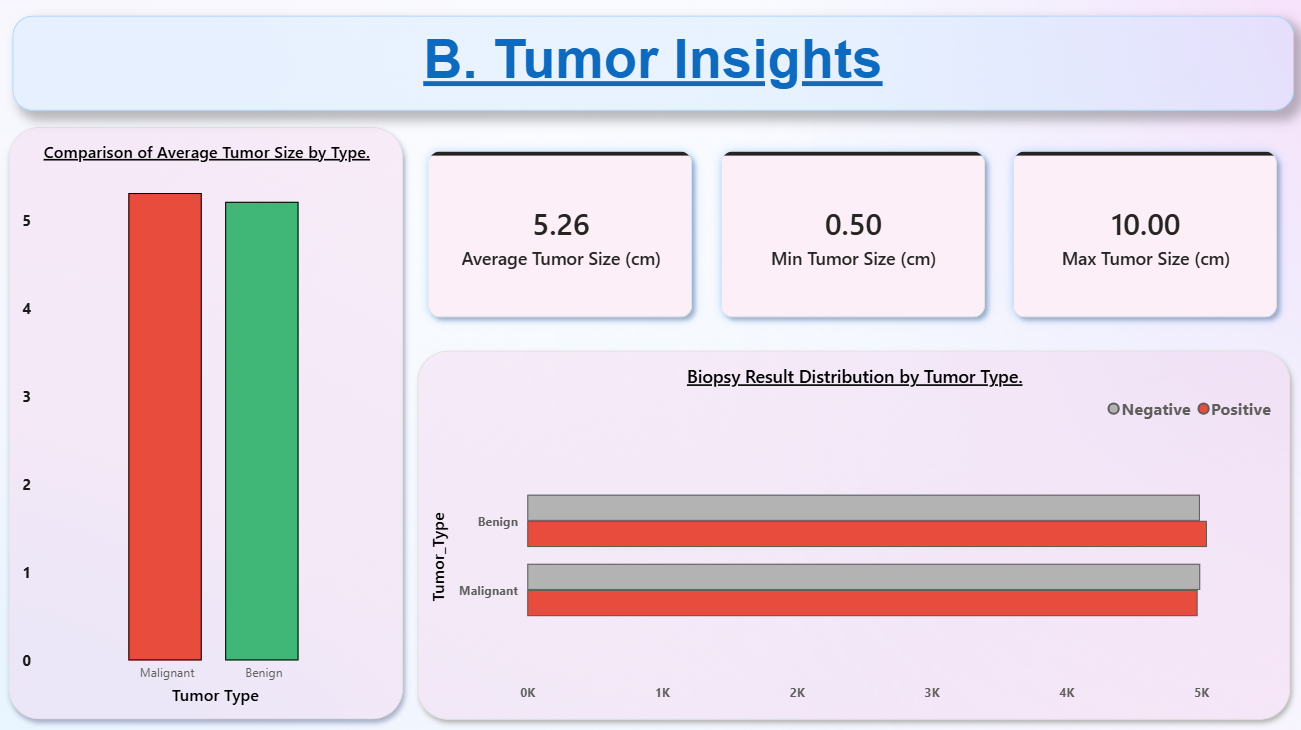

The page's visual inventory and layout, read from the dashboard file:
{"tool":"powerbi","page":{"name":"Tumor Insights","canvas":[1280,720],"ordinal":1},"visuals":[{"type":"cardVisual","fields":{"Data":["Median(cancer_diagnosis_data.Tumor_Size_cm)","Min(cancer_diagnosis_data.Tumor_Size_cm)","Max(cancer_diagnosis_data.Tumor_Size_cm)1"]},"box":[399.8,127.4,880.2,210.6],"z":0},{"type":"columnChart","title":"Comparison of Average Tumor Size by Type.","fields":{"Category":["cancer_diagnosis_data.Tumor_Type"],"Y":["Median(cancer_diagnosis_data.Tumor_Size_cm)"]},"box":[13.9,127.4,385.9,578.8],"z":1000},{"type":"clusteredBarChart","title":"Biopsy Result Distribution by Tumor Type.","fields":{"Category":["cancer_diagnosis_data.Tumor_Type"],"Y":["CountNonNull(cancer_diagnosis_data.Patient_ID)"],"Series":["cancer_diagnosis_data.Biopsy_Result"]},"box":[413.6,345.5,853.8,360.7],"z":2000},{"type":"textbox","box":[17.1,18.3,1253.4,92.9],"z":3000}]}

Visuals, with their boxes in screenshot pixels (x1, y1, x2, y2), scaled from the page's 1280x720 canvas onto the 1301x730 screenshot:
cardVisual - Median(cancer_diagnosis_data.Tumor_Size_cm) x Min(cancer_diagnosis_data.Tumor_Size_cm): [x1=406, y1=129, x2=1300, y2=343]
"Comparison of Average Tumor Size by Type." columnChart: [x1=14, y1=129, x2=406, y2=716]
"Biopsy Result Distribution by Tumor Type." clusteredBarChart: [x1=420, y1=350, x2=1288, y2=716]
textbox: [x1=17, y1=19, x2=1291, y2=113]
